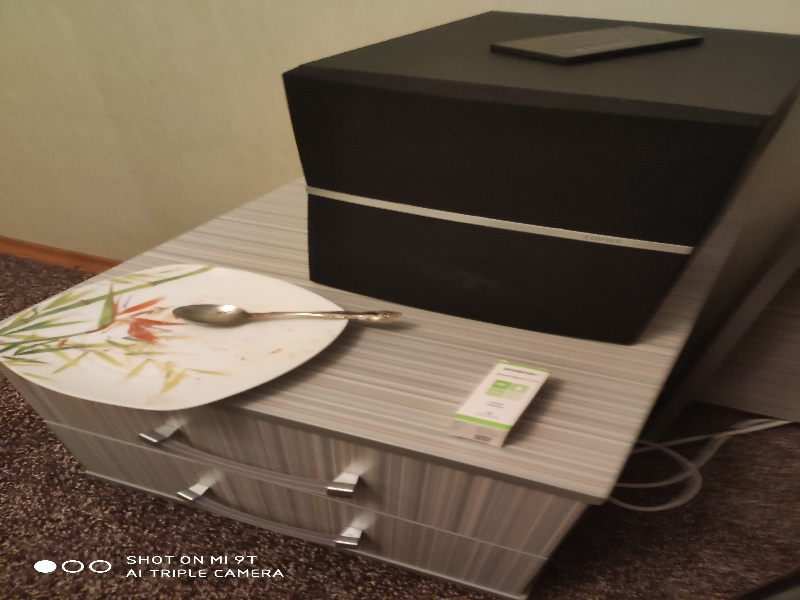ifrin: (451, 351, 551, 465)
